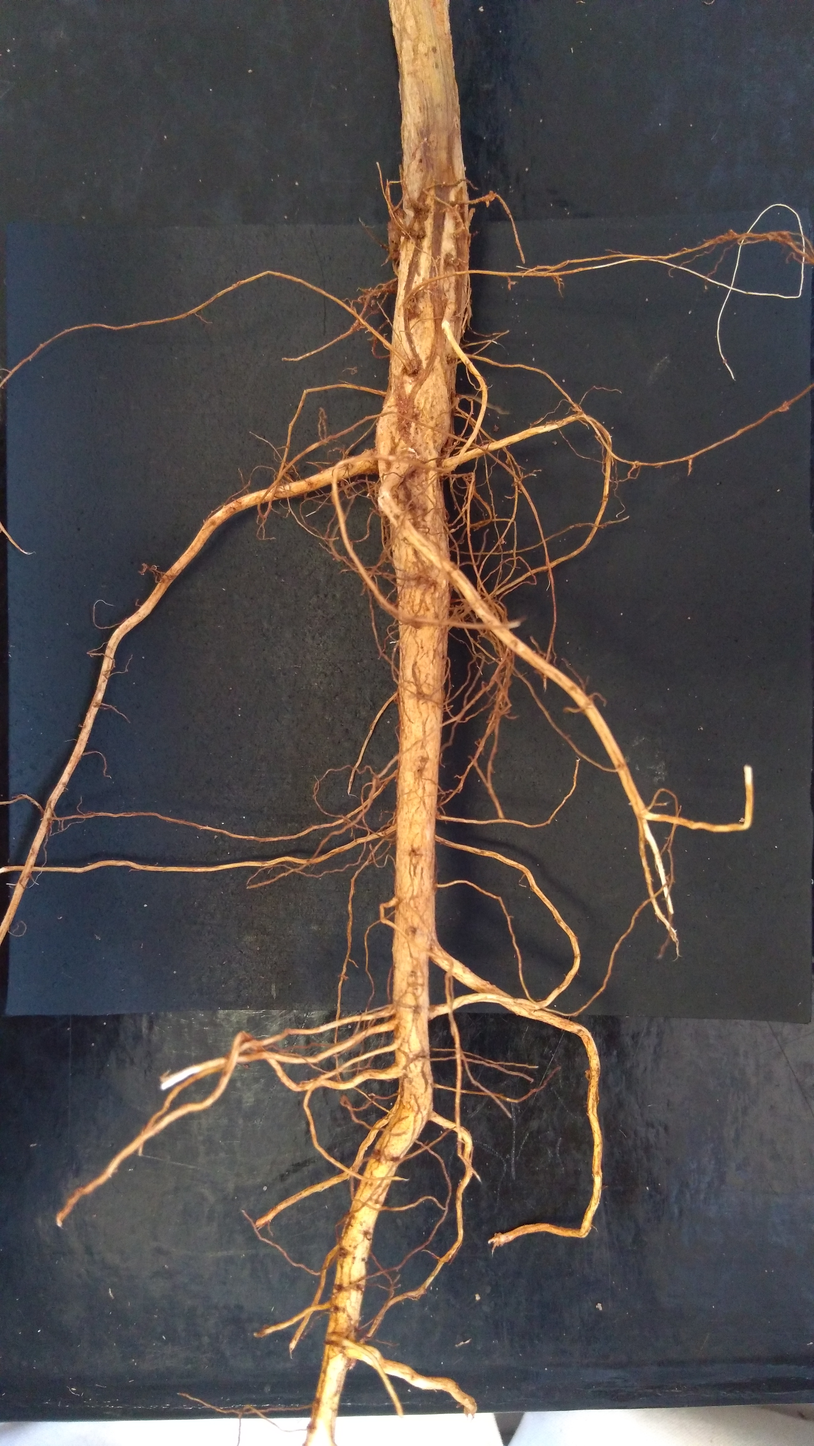nodule: (387, 219, 402, 261), (395, 446, 419, 463), (404, 294, 418, 314), (393, 205, 405, 220), (778, 401, 789, 412), (488, 190, 495, 202), (454, 202, 460, 211), (453, 441, 458, 445)
